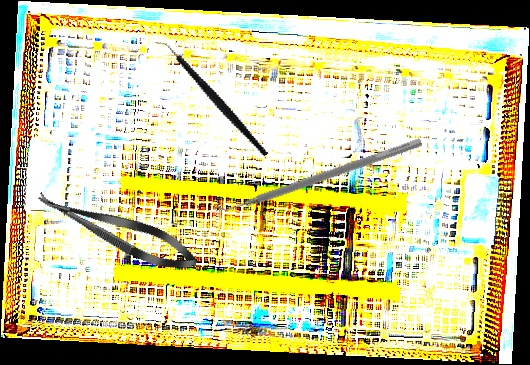Chopper: (153, 18, 269, 179)
Micro Scissor: (31, 180, 204, 281)
Spatula Surgical: (212, 128, 423, 221)
